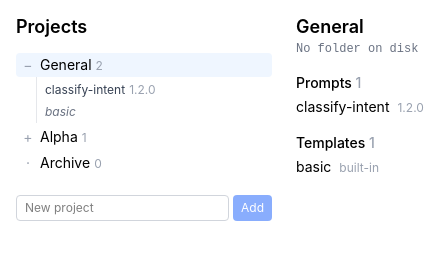
Scenario: Projects › shows the server error when a name is taken
Expected: the heading "General" is shown, [296,16,364,37]
Type "General" into the field named "New project name" at {"x": 122, "y": 208}, box [16,195,229,221]
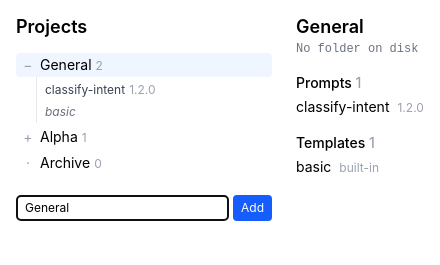
Click the button "Add" at {"x": 252, "y": 208}, box [233,195,272,221]
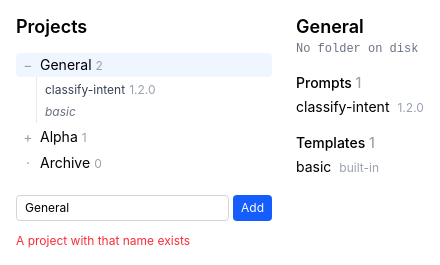
Now the text "A project with that name exists" is shown, box [16,233,190,248]
